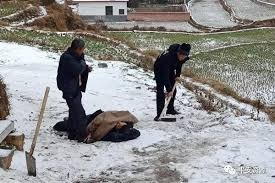falling: (48, 103, 145, 143)
